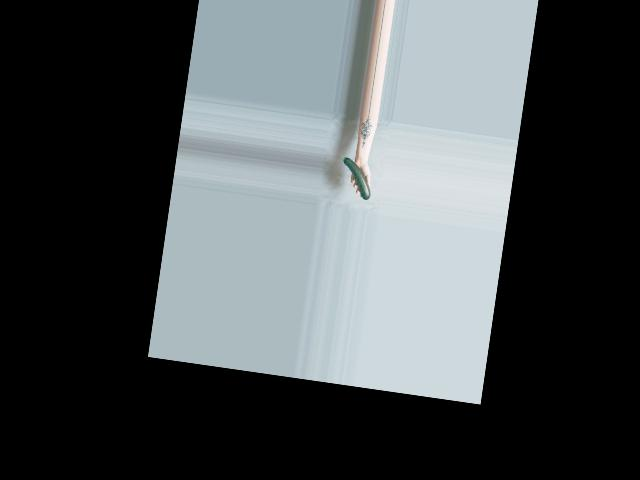cucumber: (337, 157, 374, 200)
